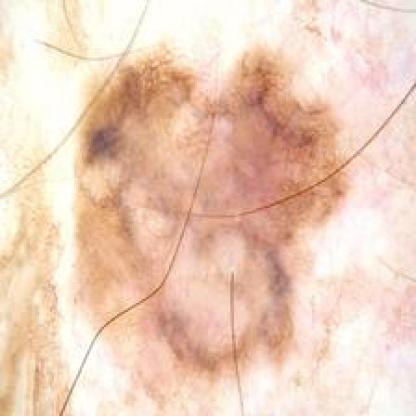Skin_Cancer-Malignant: (70, 42, 354, 416)
